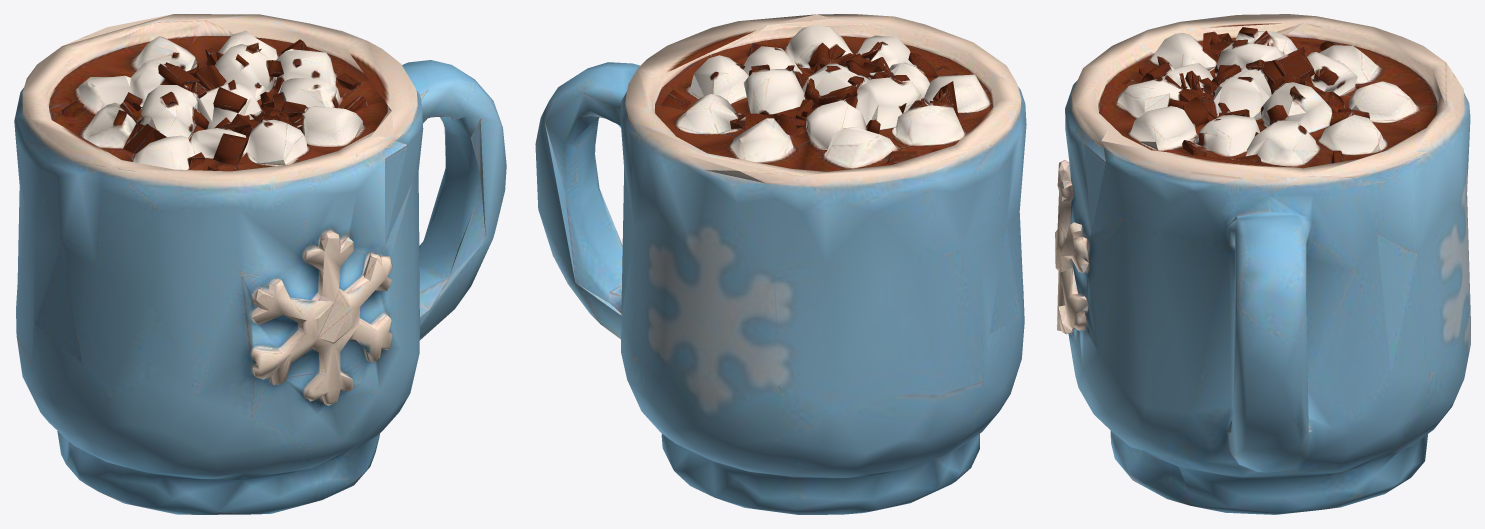
Rendered from mug_cocoa.gltf.
3 views of the same model, side by side, from view 1: azimuth 30°, elevation 25°; view 2: azimuth 150°, elevation 25°; view 3: azimuth 270°, elevation 25° (orthographic).
Visible parts, largest first — view 1: mug_cocoa; view 2: mug_cocoa; view 3: mug_cocoa.
Part boxes in pixels (<box>): mug_cocoa: <box>14,14,506,514</box>; mug_cocoa: <box>535,14,1026,514</box>; mug_cocoa: <box>1055,14,1470,514</box>.
Size of the model in its own units: 0.9 by 0.734 by 0.7171.
Materials: 1 (1 with a texture image).
